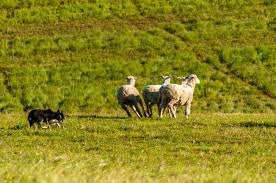sheep: (114, 72, 149, 123), (162, 72, 198, 118), (144, 71, 173, 118)
